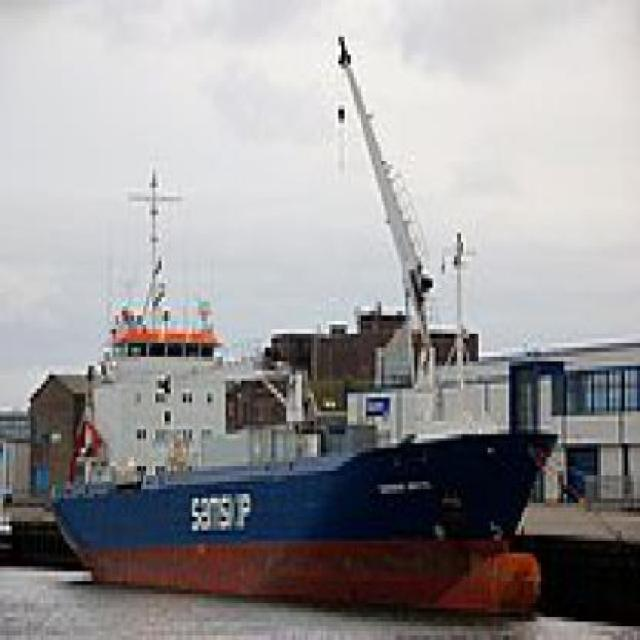container: (34, 19, 577, 632)
